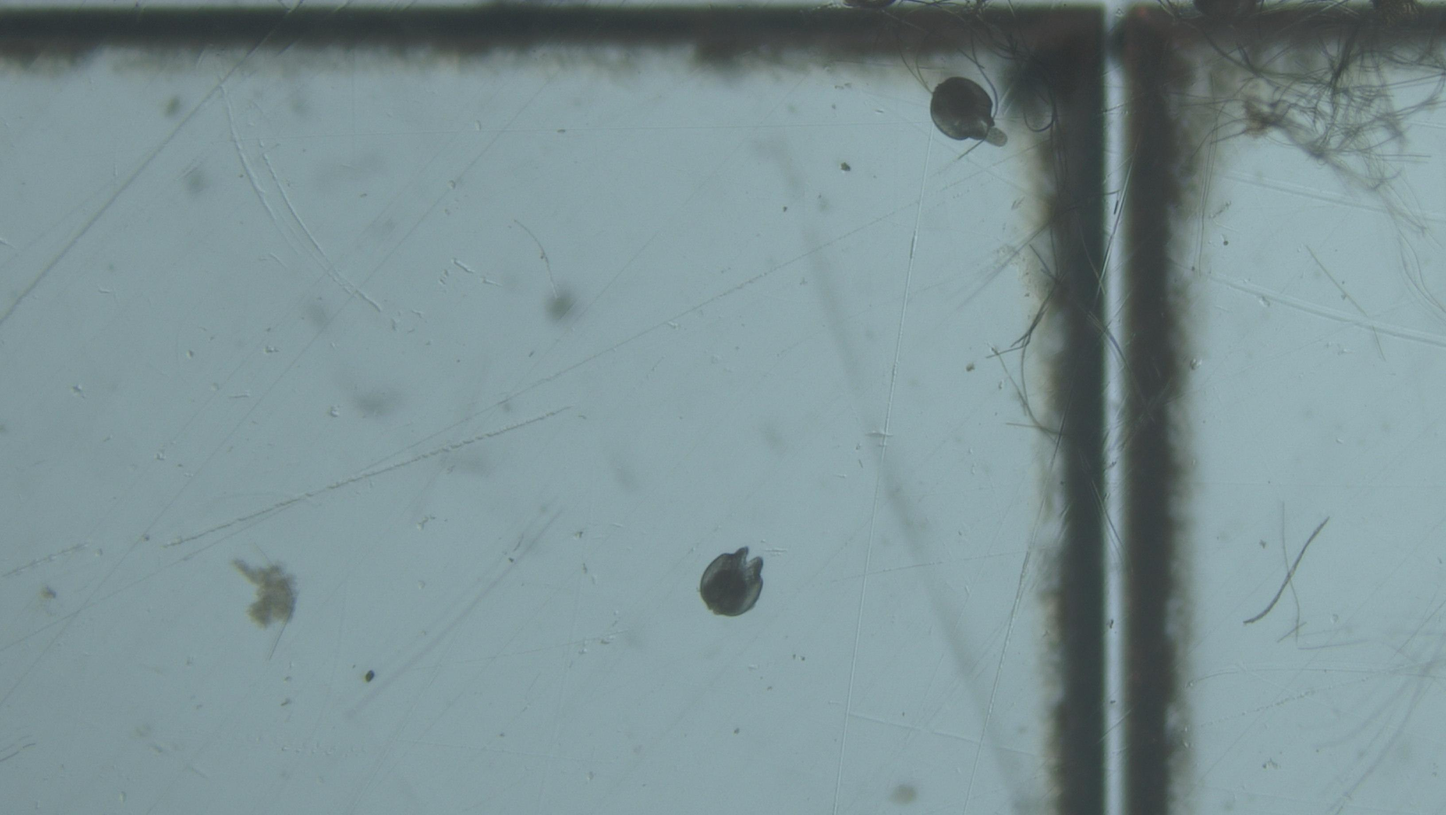live: (930, 77, 1007, 147), (699, 547, 763, 617)
